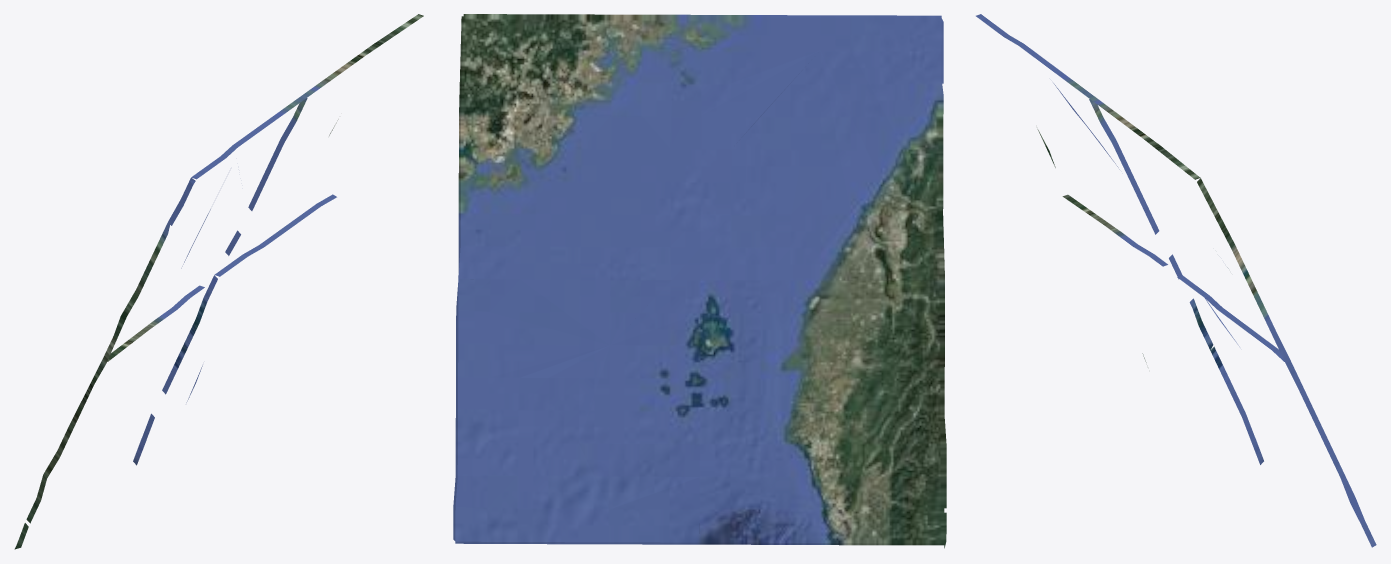
The picture shows the model from 3 angles, left to right: view 1: azimuth 30°, elevation 25°; view 2: azimuth 150°, elevation 25°; view 3: azimuth 270°, elevation 25°; orthographic projection. The views are drawn at different scales.
Size of the model in its own units: 315925 by 290065 by 255999.
1 material, 1 textured.
